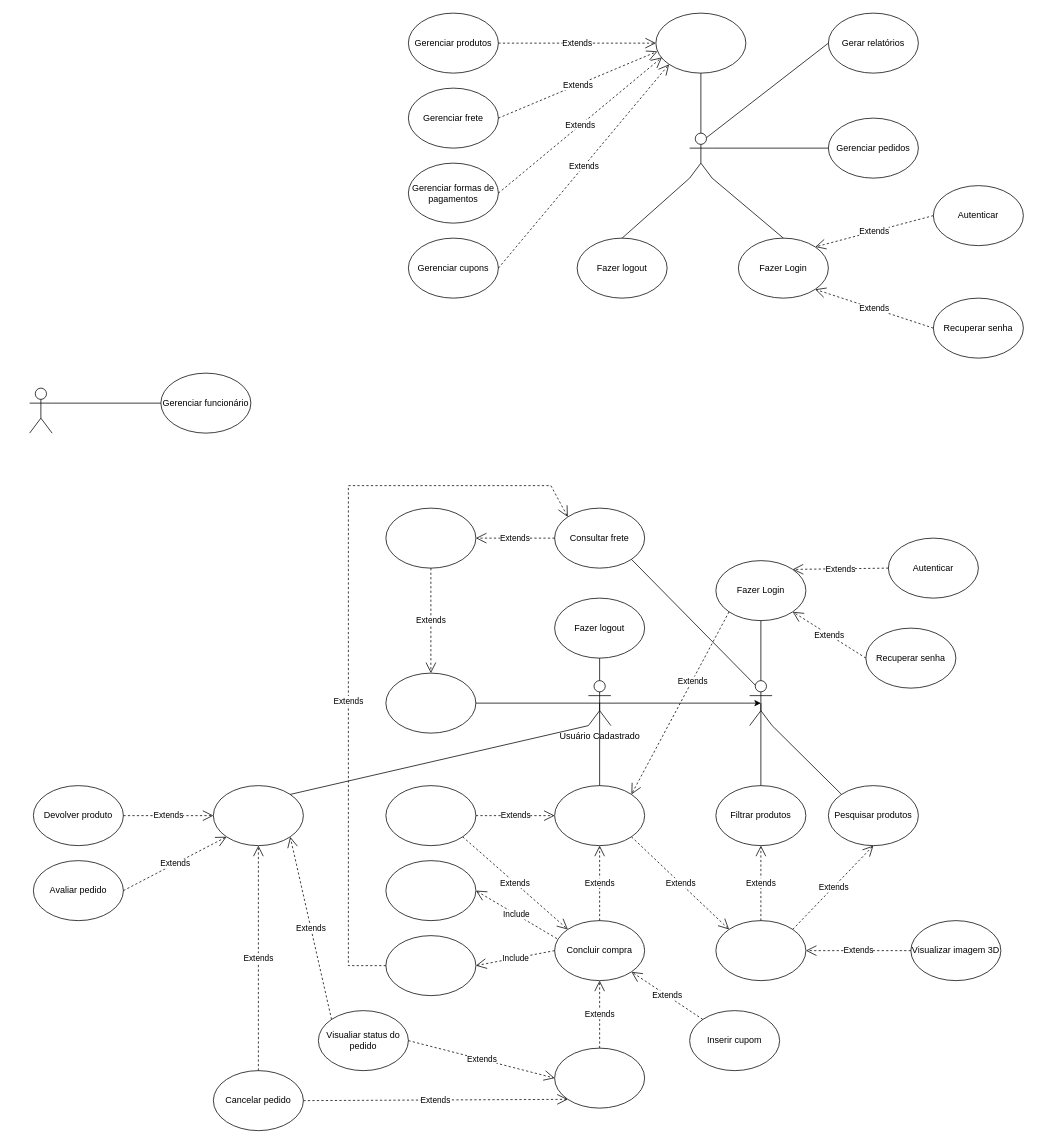
Image size: 1037x1144. Some labels were removed from this diagram. Here are the shapes that lost their labels. From the top down, the centre of each, then its label:
the point at 700,42: Gerenciar dados
the point at 700,155: Funcionário
the point at 40,410: Administrador
the point at 430,537: Cadastrar endereço
the point at 430,702: Gerenciar cadastro
the point at 760,703: Visitante
the point at 258,815: Visualizar histórico de compras
the point at 430,815: Cancelar produto
the point at 599,815: Adicionar produto à sacola
the point at 430,890: Informar endereço
the point at 430,965: Esolher forma de pagamento
the point at 760,950: Visualizar produtos
the point at 599,1077: Enviar pedido
